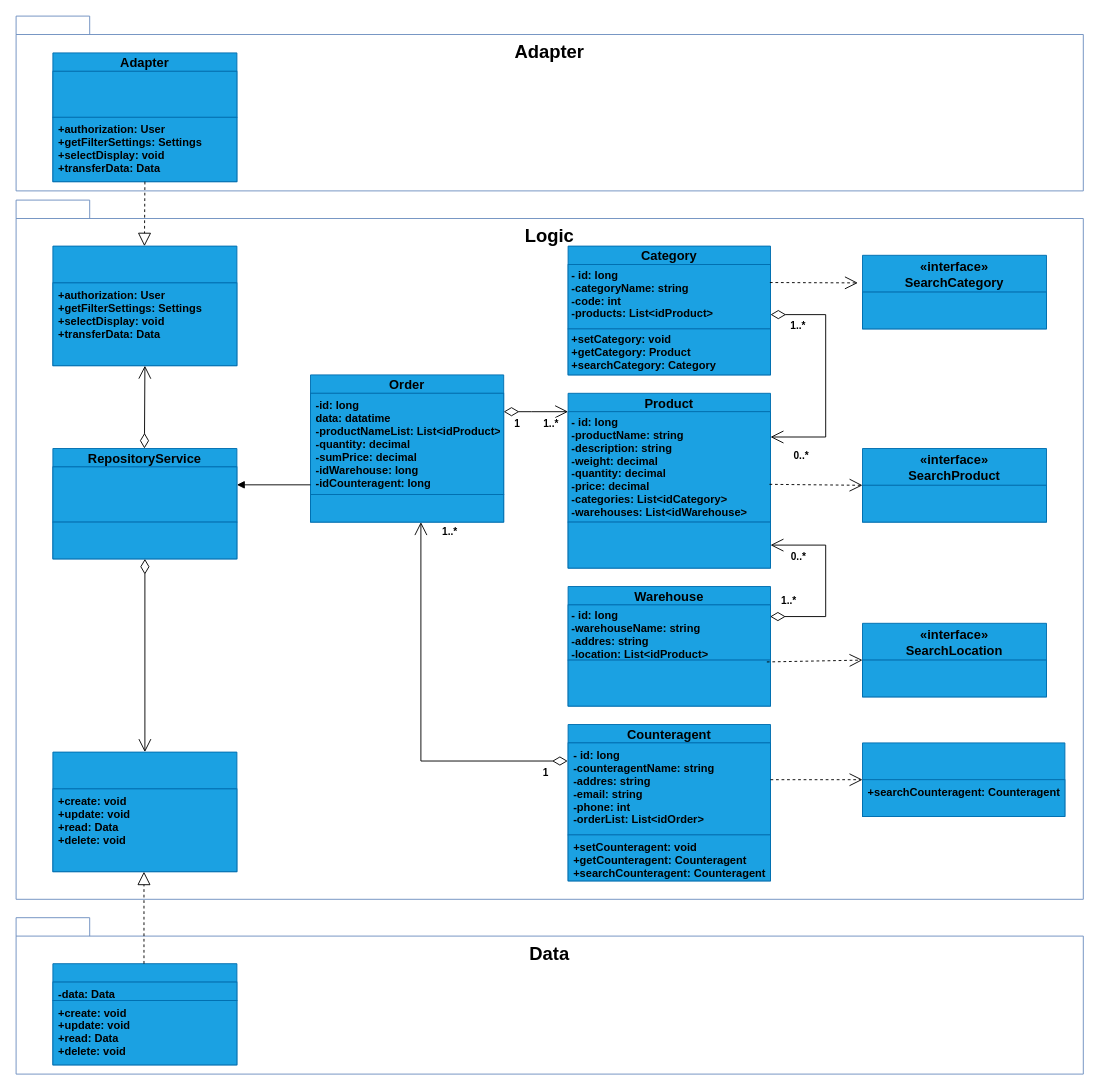
Image size: 1099x1090. Some labels were removed from this diagram. The shapes that lost their labels are listed below. From the top down, each one's box as (x1, y1, x2, y2) in pixels, then its label:
(52, 70, 237, 117): -user: User -settings: Settings -data: Data
(52, 245, 237, 366): «interface» IAdapter
(862, 291, 1046, 329): +searchCategory: Category
(52, 466, 237, 522): +adapter: IAdapter +repository: IRepositiry
(310, 494, 504, 522): +createOrder: void
(862, 484, 1046, 522): +searchProduct: Product
(52, 521, 237, 559): +createIAdapter: void +createIRepository: void
(567, 521, 770, 568): +setProduct: void +getProduct: Product +searchProduct: Product
(567, 659, 770, 706): +setWarehouse: void +getWarehouse: Product +searchLocation: location
(862, 659, 1046, 697): +searchLocation: location
(862, 742, 1065, 816): «interface» SearchCounteragent
(52, 751, 237, 872): «interface» IRepository
(52, 963, 237, 1065): Repository
